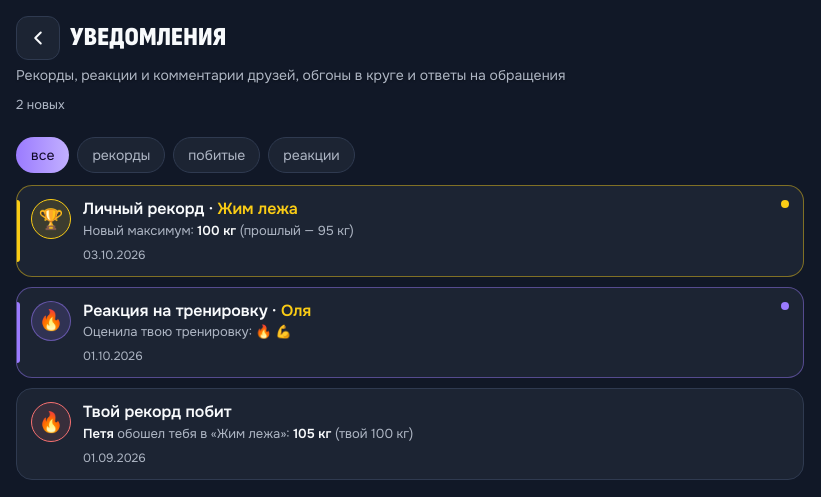
NotificationsScreen › фильтр-чипы: только присутствующие категории; выбор сужает список, не трогая счетчик
Expected: the text "2 новых" is shown, [16, 96, 65, 113]
Click the button "реакции" at (311, 155), box [268, 137, 355, 173]
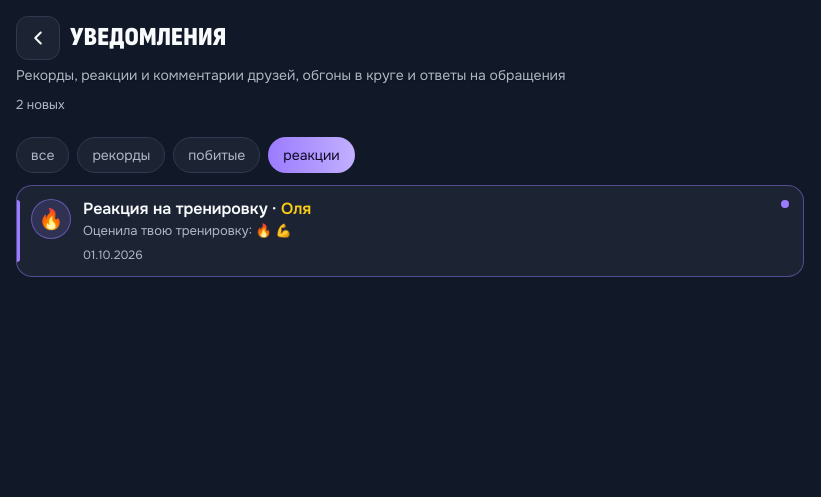
Expected: the text "2 новых" is shown, [16, 96, 65, 113]
Expected: the number of elements with class "notif" is 1, [16, 185, 804, 277]
